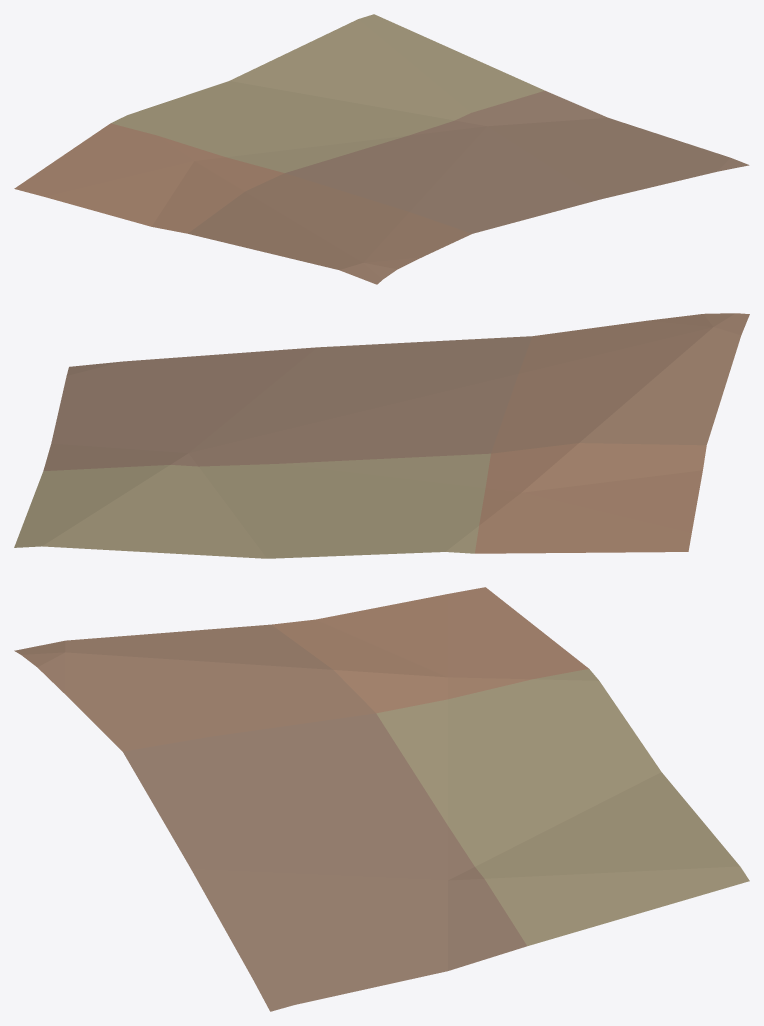
File: farm_28_23_soil.glb
The picture shows the model from 3 angles, top to bottom: view 1: azimuth 30°, elevation 25°; view 2: azimuth 150°, elevation 25°; view 3: azimuth 270°, elevation 25°; orthographic projection. The views are drawn at different scales.
Visible parts, largest first — view 1: geometry_0; view 2: geometry_0; view 3: geometry_0.
Part boxes in pixels (x1,y1,x2,y2): geometry_0: (14, 14, 749, 284); geometry_0: (14, 313, 749, 558); geometry_0: (14, 587, 749, 1011).
Bounding box in the file's own units: 175 × 22.21 × 154.
